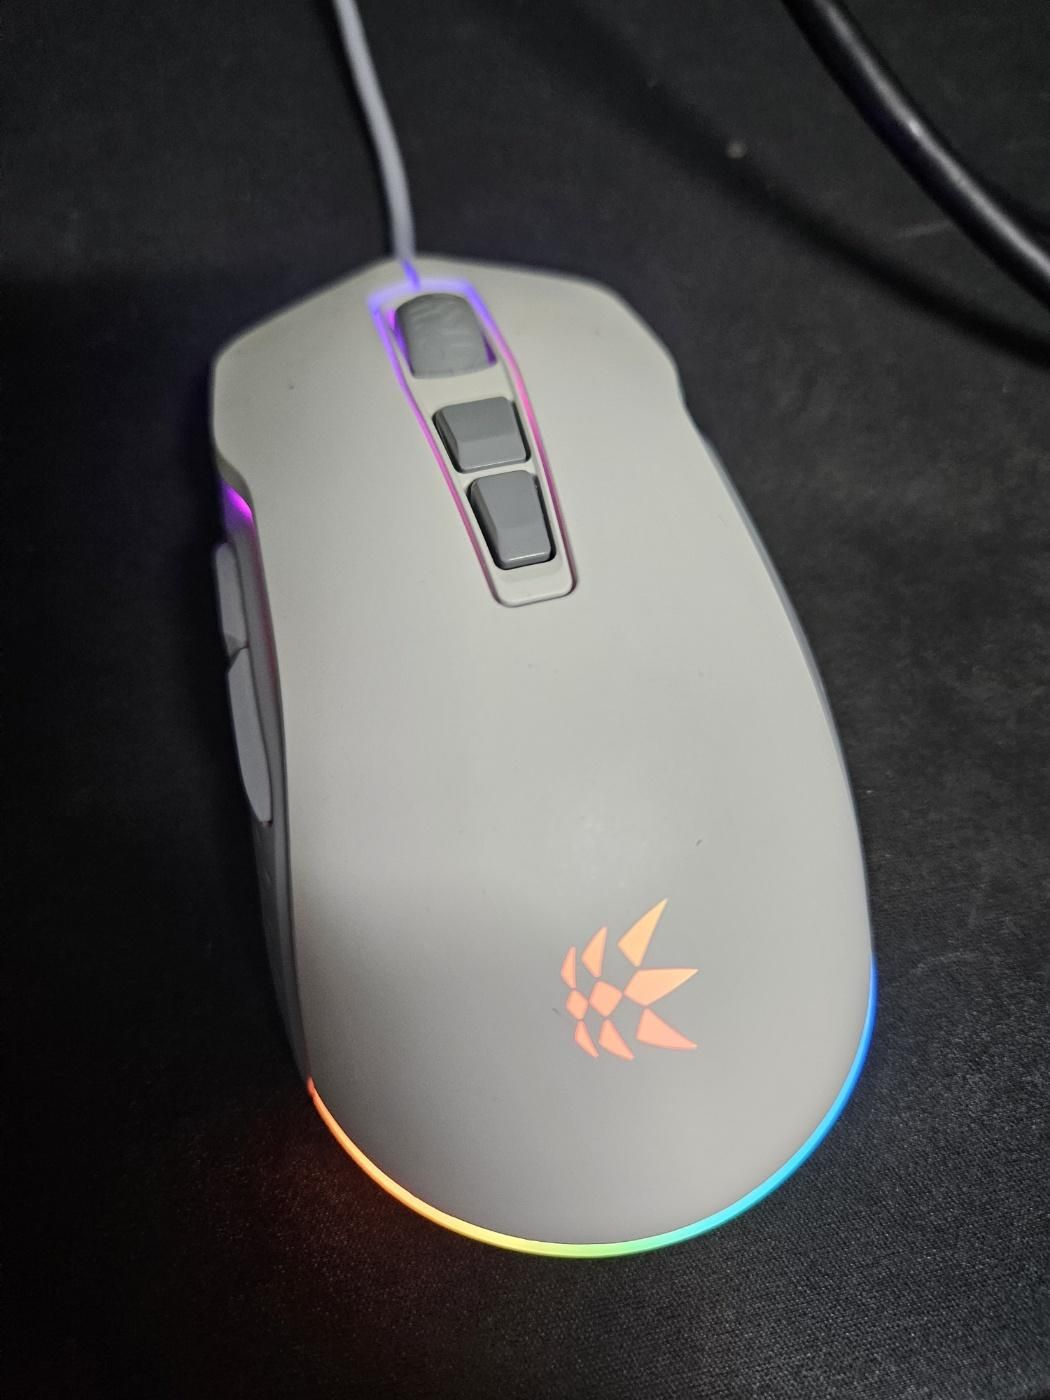mouse: (205, 250, 879, 1259)
